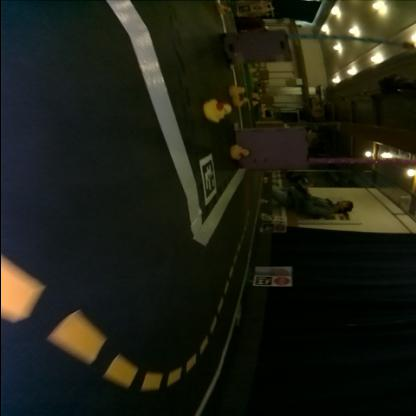Duckie: (204, 100, 232, 122), (230, 146, 249, 160), (228, 87, 245, 96)
QR code: (198, 156, 218, 206), (253, 276, 273, 288)
Stop sign: (274, 277, 292, 286)
